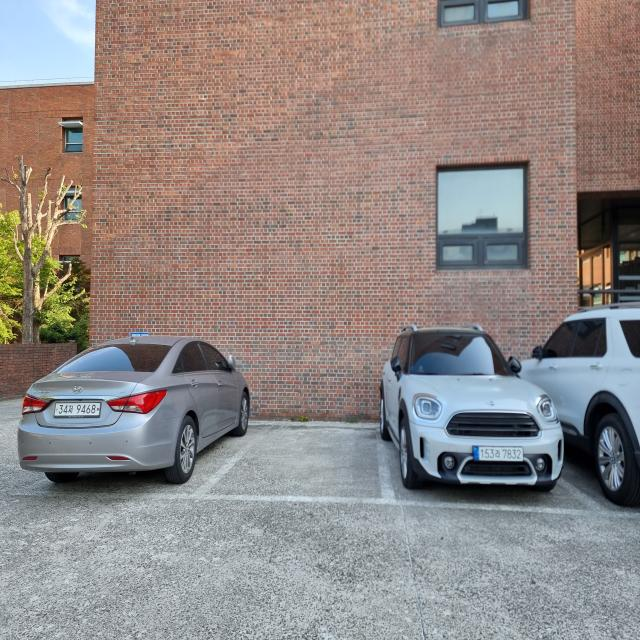empty: (194, 420, 390, 499)
occupied: (384, 326, 574, 497), (13, 348, 240, 476)
